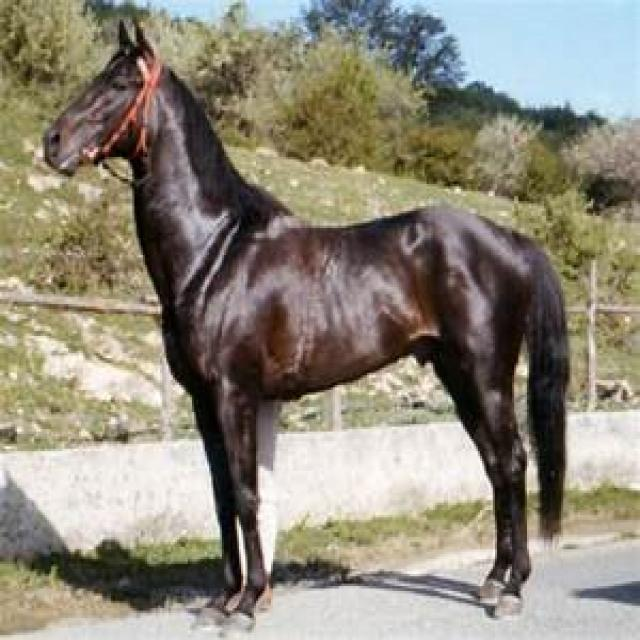horse: (45, 24, 565, 613)
